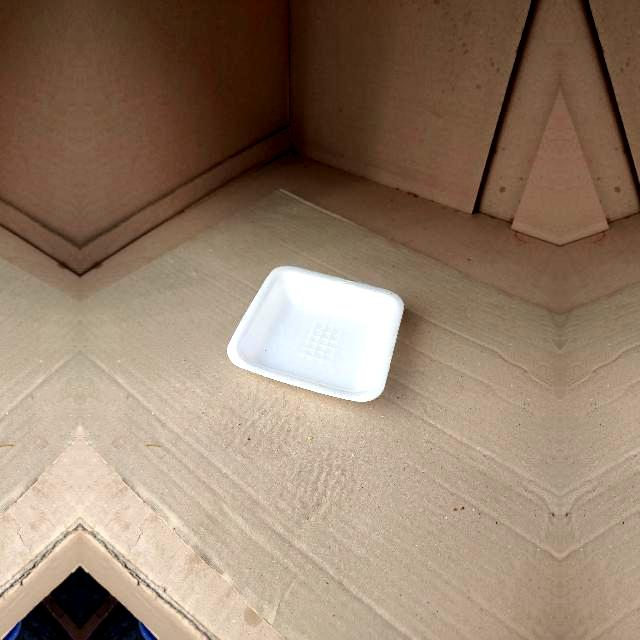Styrofoam: (226, 266, 404, 404), (227, 266, 404, 402)
